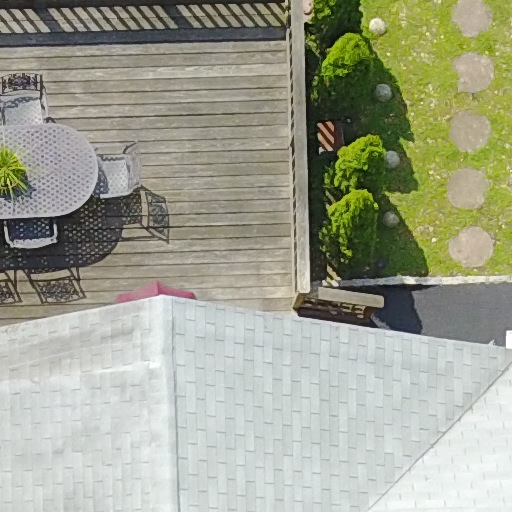porch: (1, 3, 417, 328)
